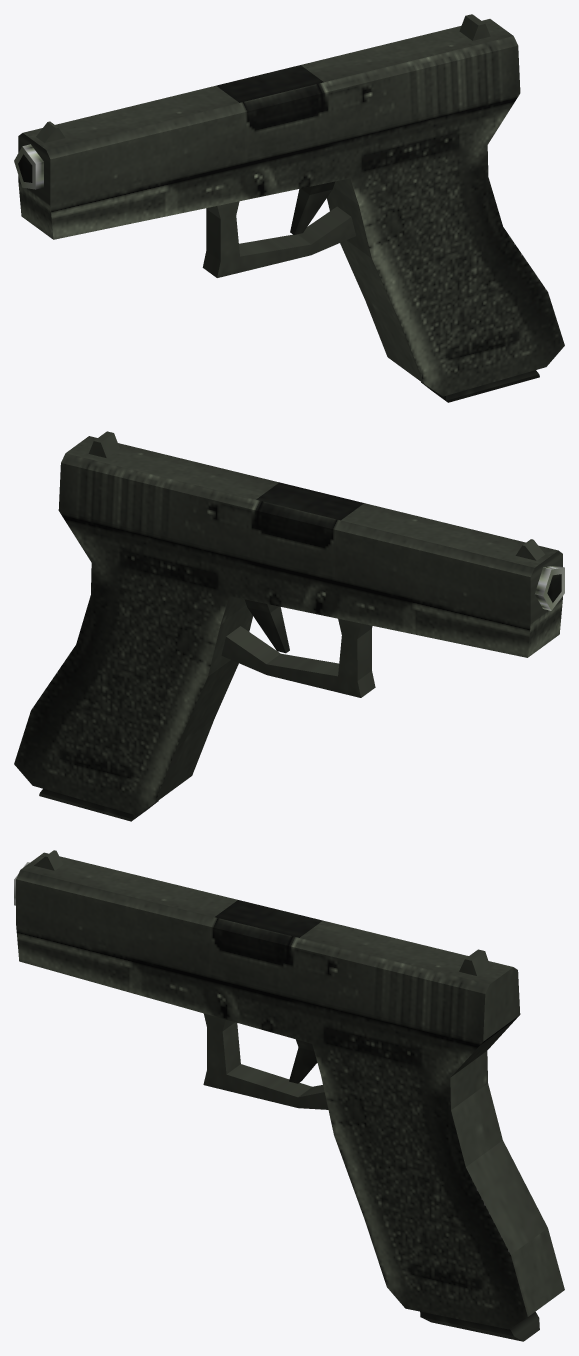
File: Pistol.fbx
3 renders of one model, top to bottom at view 1: azimuth 30°, elevation 25°; view 2: azimuth 150°, elevation 25°; view 3: azimuth 330°, elevation 25°, orthographic.
Parts seen in each view (by area): view 1: Pistol; view 2: Pistol; view 3: Pistol.
Part boxes in pixels (left/top/right/bottom): Pistol: left=14, top=14, right=564, bottom=402; Pistol: left=14, top=431, right=564, bottom=821; Pistol: left=14, top=850, right=564, bottom=1341.
Size of the model in its own units: 16.75 by 11.33 by 2.06.
